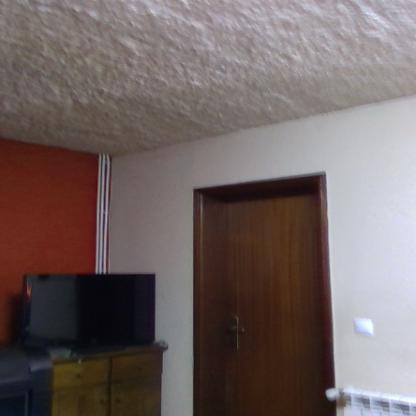door: (207, 199, 330, 415)
lever: (229, 325, 246, 333)
